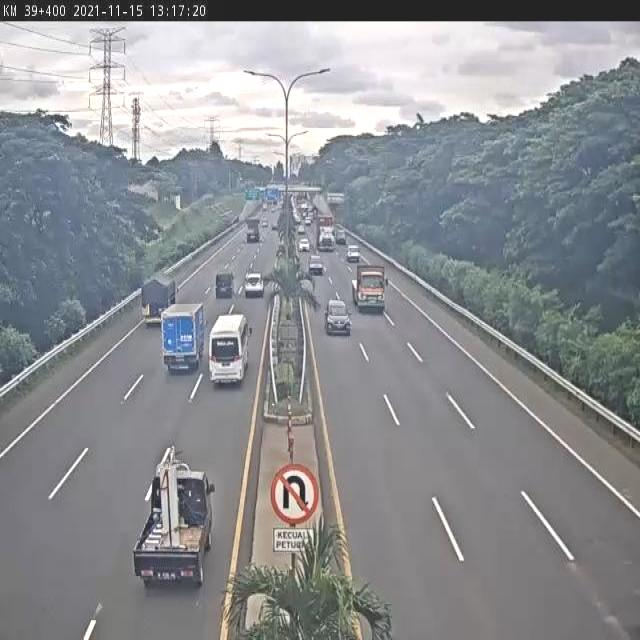Car: (324, 298, 352, 336), (244, 272, 265, 298), (308, 255, 324, 275), (346, 245, 360, 262), (335, 226, 346, 244), (298, 238, 310, 252), (292, 212, 300, 225), (298, 224, 306, 235), (304, 216, 312, 226), (271, 222, 279, 230), (261, 219, 268, 228), (271, 204, 278, 212), (262, 204, 267, 212)
Truck: (131, 443, 214, 592), (160, 302, 205, 373), (142, 274, 178, 328), (352, 264, 387, 314), (318, 228, 335, 252), (246, 218, 260, 242), (318, 214, 334, 232), (301, 202, 308, 218), (289, 195, 296, 211)
Van: (209, 312, 250, 383), (215, 272, 234, 298)
